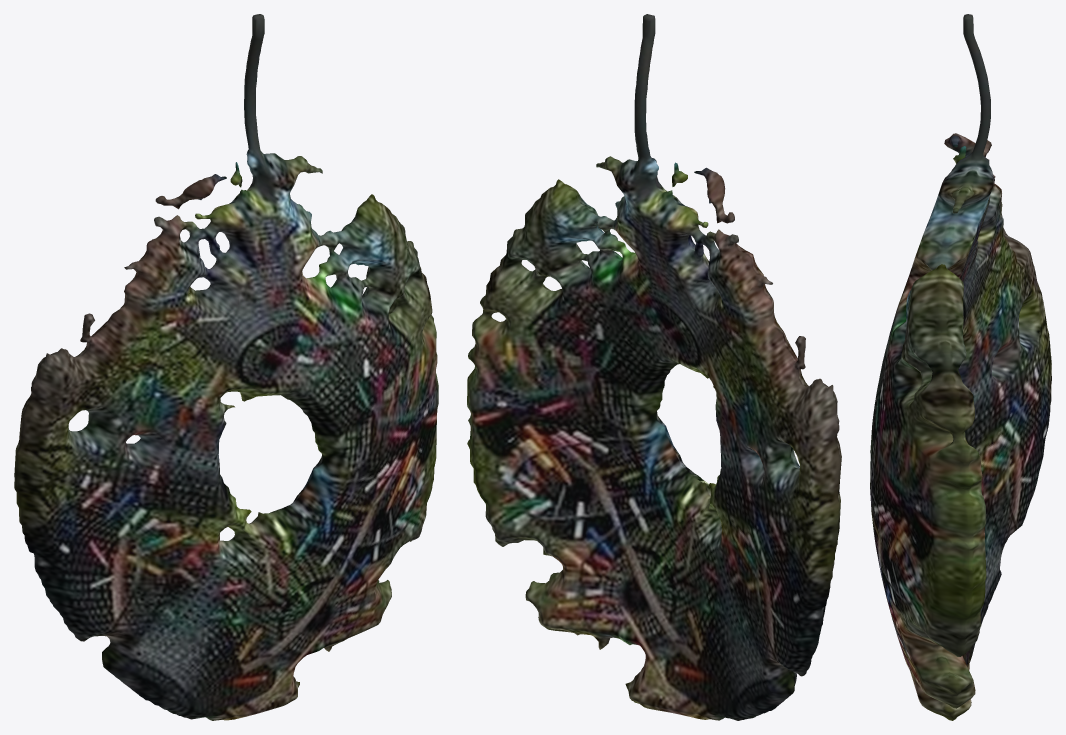
File: hy3d-mov-022.glb
3 views of the same model, side by side, from view 1: azimuth 30°, elevation 25°; view 2: azimuth 150°, elevation 25°; view 3: azimuth 270°, elevation 25° (orthographic). The views are drawn at different scales.
Visible parts, largest first — view 1: world; view 2: world; view 3: world.
Boxes of the visible parts, box(x1,y1,x2,y2) form: world: box(14, 14, 438, 720); world: box(467, 14, 841, 720); world: box(870, 14, 1051, 720).
Size of the model in its own units: 1.42 by 2.39 by 0.5647.
Materials: 1 (1 with a texture image).
